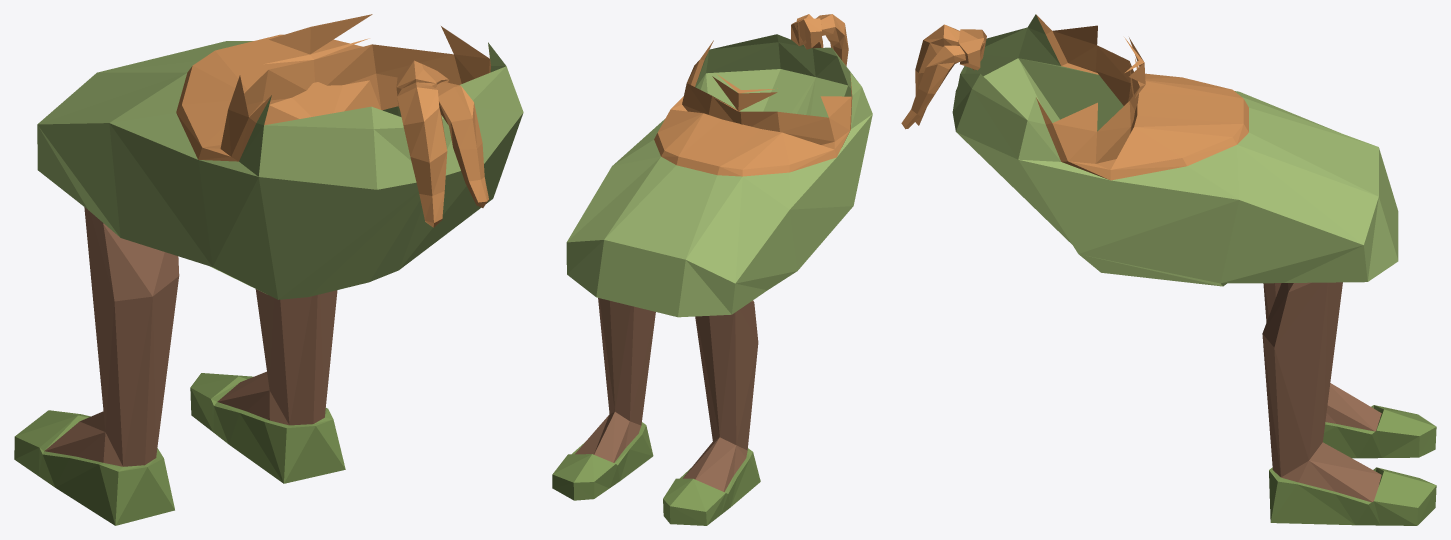
File: Mother_01_Legs_79_03_C.obj
3 views of the same model, side by side, from view 1: azimuth 30°, elevation 25°; view 2: azimuth 150°, elevation 25°; view 3: azimuth 270°, elevation 25° (orthographic). The views are drawn at different scales.
Parts seen in each view (by area): view 1: Mother_01_Legs_79_03_C; view 2: Mother_01_Legs_79_03_C; view 3: Mother_01_Legs_79_03_C.
Part boxes in pixels (x1=…): Mother_01_Legs_79_03_C: x1=14, y1=14, x2=523, y2=525; Mother_01_Legs_79_03_C: x1=552, y1=14, x2=872, y2=525; Mother_01_Legs_79_03_C: x1=901, y1=14, x2=1436, y2=525.
Bounding box in the file's own units: 0.3876 × 0.7464 × 0.8059.
1 material, 1 textured.
